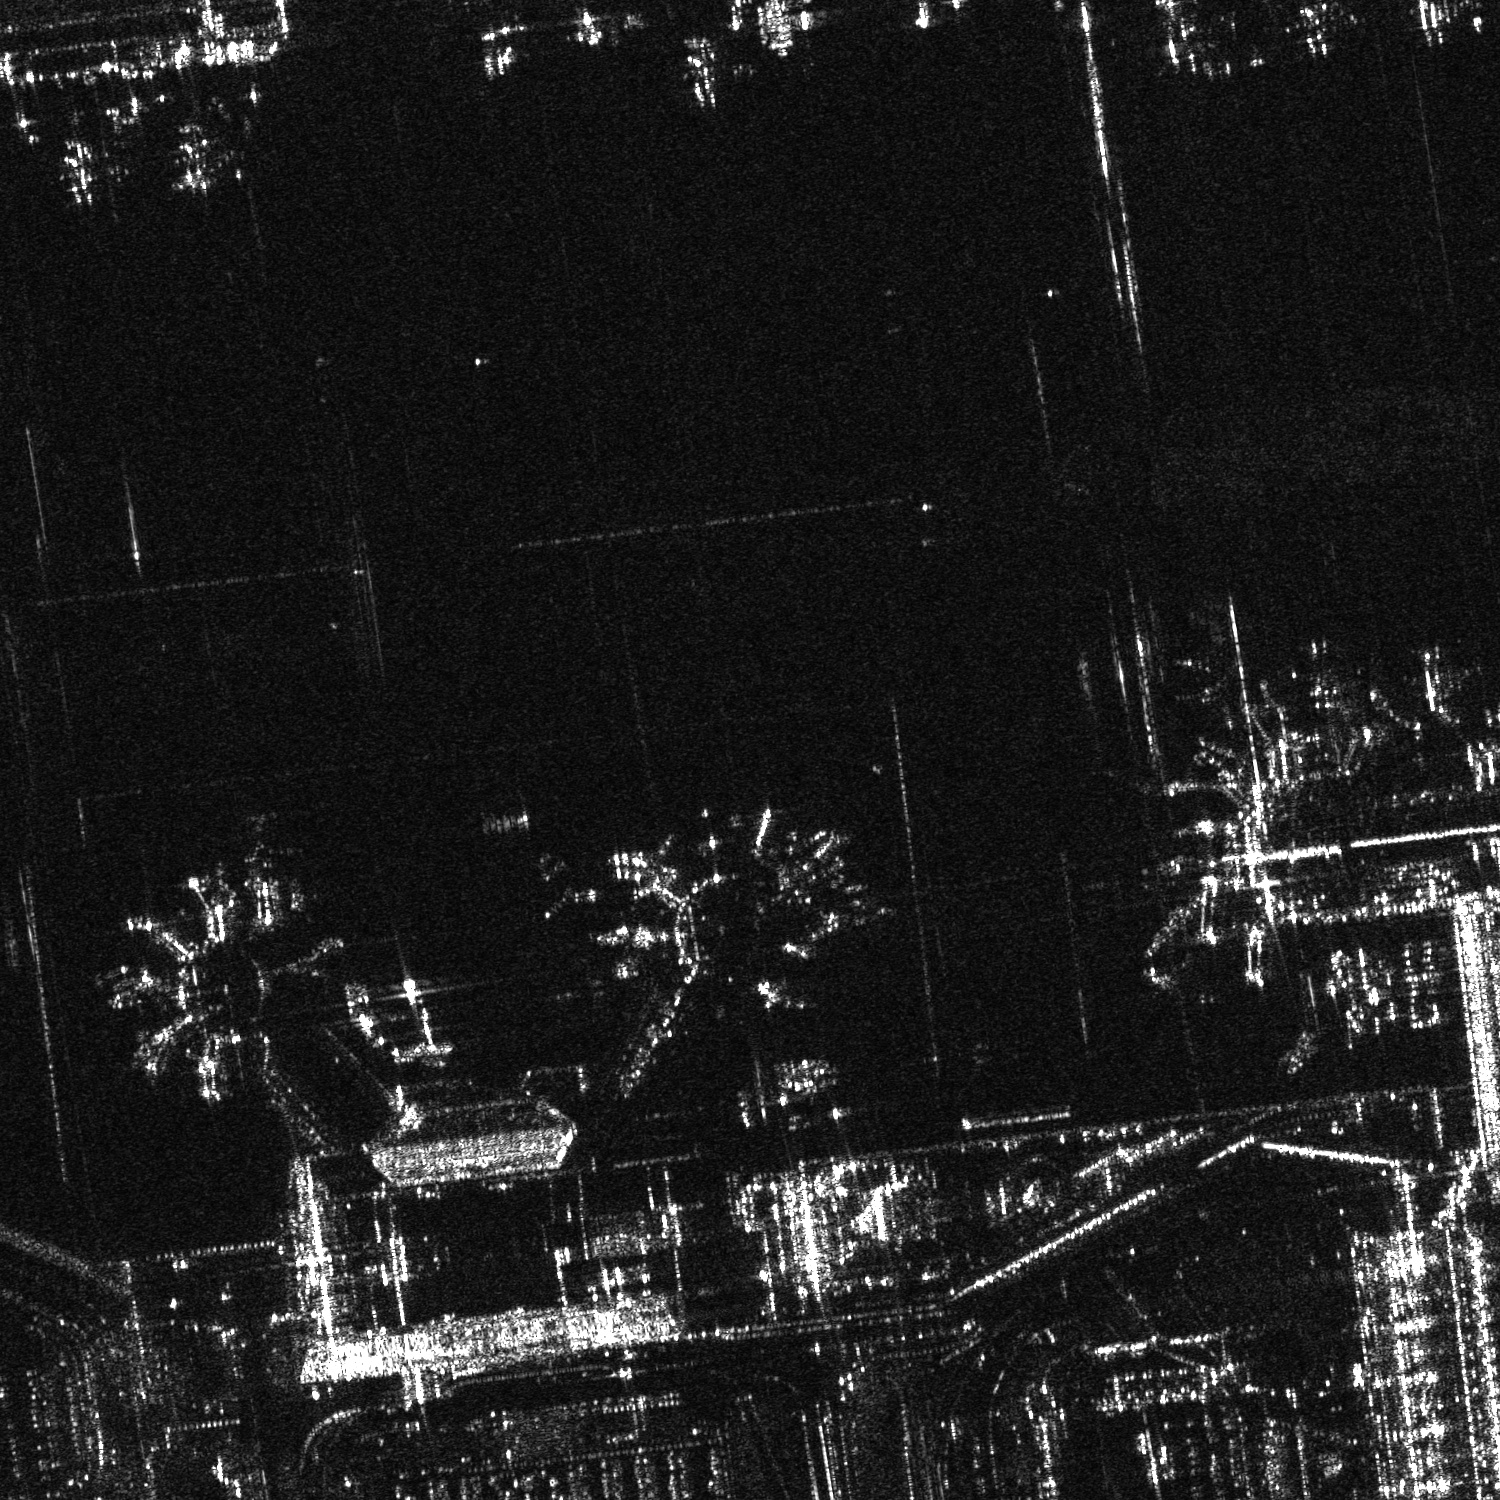A220: (1394, 641, 1475, 716), (1293, 635, 1363, 707), (543, 854, 602, 920), (235, 815, 290, 871), (562, 968, 607, 1010)
Boeing737: (1173, 654, 1239, 707)
Boeing787: (666, 34, 745, 110), (45, 132, 115, 209), (168, 126, 231, 194)
